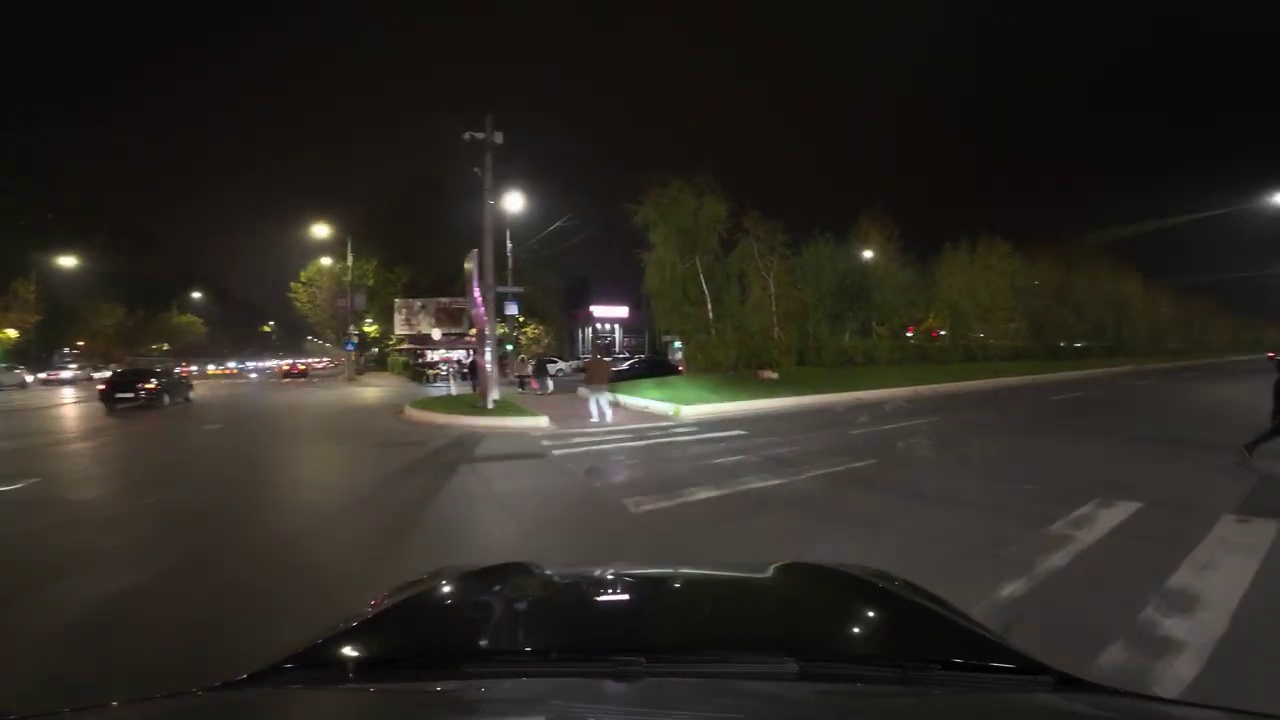acesa: (497, 187, 528, 217), (306, 218, 334, 243), (51, 251, 80, 274), (856, 244, 880, 267)
